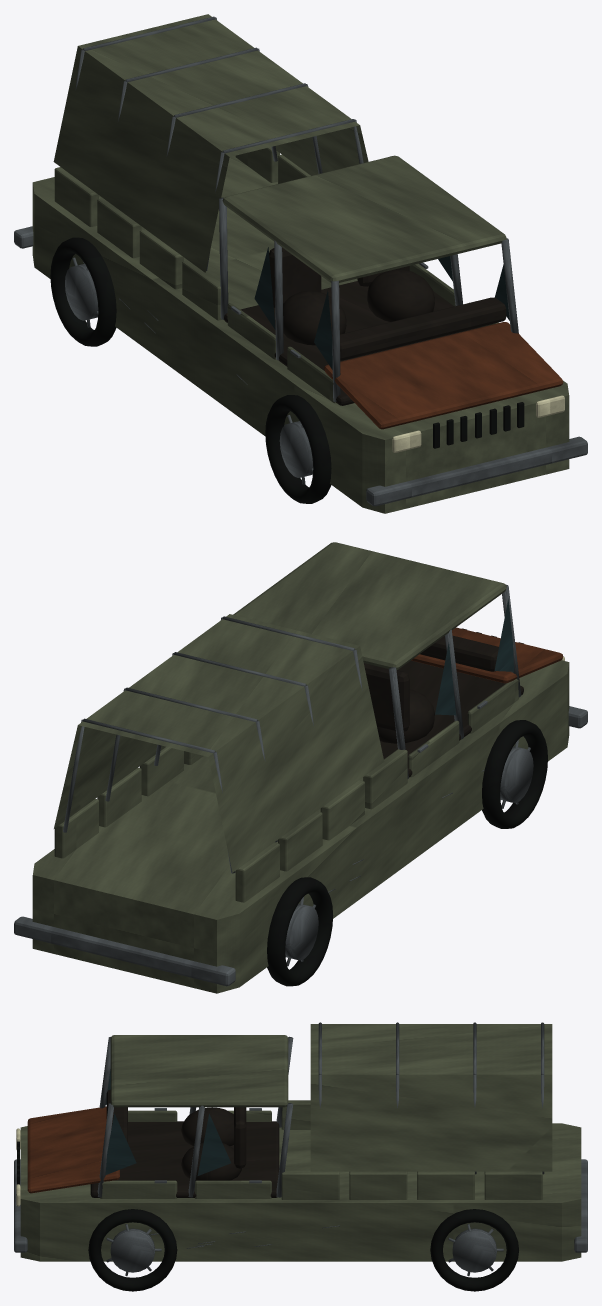
Rendered from military_truck.glb.
3 views of the same model, one above another, from view 1: azimuth 30°, elevation 25°; view 2: azimuth 150°, elevation 25°; view 3: azimuth 270°, elevation 25° (orthographic). The views are drawn at different scales.
Visible parts, largest first — view 1: Torn_transport_canvas, Dented_body_shell.002, Roof.002, Damaged_hood.002, Dashboard.002, Treaded_tire.009, Bumper.004, Treaded_tire.008, Cabin_floor.002, Front_seat.005, Front_seat.004, Bed_side.009 (+16 smaller); view 2: Dented_body_shell.002, Torn_transport_canvas, Roof.002, Bumper.005, Treaded_tire.009, Treaded_tire.008, Cabin_floor.002, Damaged_hood.002, Seat_back.004, Bed_side.011, Bed_side.008, Bed_side.010 (+14 smaller); view 3: Torn_transport_canvas, Dented_body_shell.002, Roof.002, Cabin_floor.002, Damaged_hood.002, Treaded_tire.010, Treaded_tire.011, Bed_side.012, Bed_side.013, Bed_side.015, Bed_side.014, Wheel_hub.010 (+17 smaller).
Part boxes in pixels (x1,y1,x2,y2): Torn_transport_canvas: (53,14,368,272); Dented_body_shell.002: (32,155,569,513); Roof.002: (222,155,506,282); Damaged_hood.002: (324,322,563,429); Dashboard.002: (332,297,506,360); Treaded_tire.009: (50,237,116,346); Bumper.004: (366,436,587,506); Treaded_tire.008: (265,395,331,503); Cabin_floor.002: (224,281,481,405); Front_seat.005: (367,269,434,321); Front_seat.004: (283,291,346,345); Bed_side.009: (139,229,183,289); Dented_body_shell.002: (32,660,569,993); Torn_transport_canvas: (54,614,384,872); Roof.002: (233,542,506,669); Bumper.005: (14,916,235,986); Treaded_tire.009: (267,877,333,986); Treaded_tire.008: (482,720,547,828); Cabin_floor.002: (380,660,523,777); Damaged_hood.002: (411,627,563,683); Seat_back.004: (364,663,409,731); Bed_side.011: (235,842,279,902); Bed_side.008: (363,749,407,809); Bed_side.010: (278,811,322,871); Torn_transport_canvas: (310,1024,552,1171); Dented_body_shell.002: (20,1123,581,1261); Roof.002: (110,1035,288,1107); Cabin_floor.002: (90,1121,279,1197); Damaged_hood.002: (27,1106,119,1193); Treaded_tire.010: (88,1209,177,1291); Treaded_tire.011: (430,1209,518,1291); Bed_side.012: (281,1170,339,1199); Bed_side.013: (349,1171,407,1199); Bed_side.015: (484,1171,542,1199); Bed_side.014: (417,1171,474,1199); Wheel_hub.010: (110,1228,154,1272).
Bounding box in the file's own units: 2.21 × 2.3 × 5.94.
7 materials, 7 textured.
